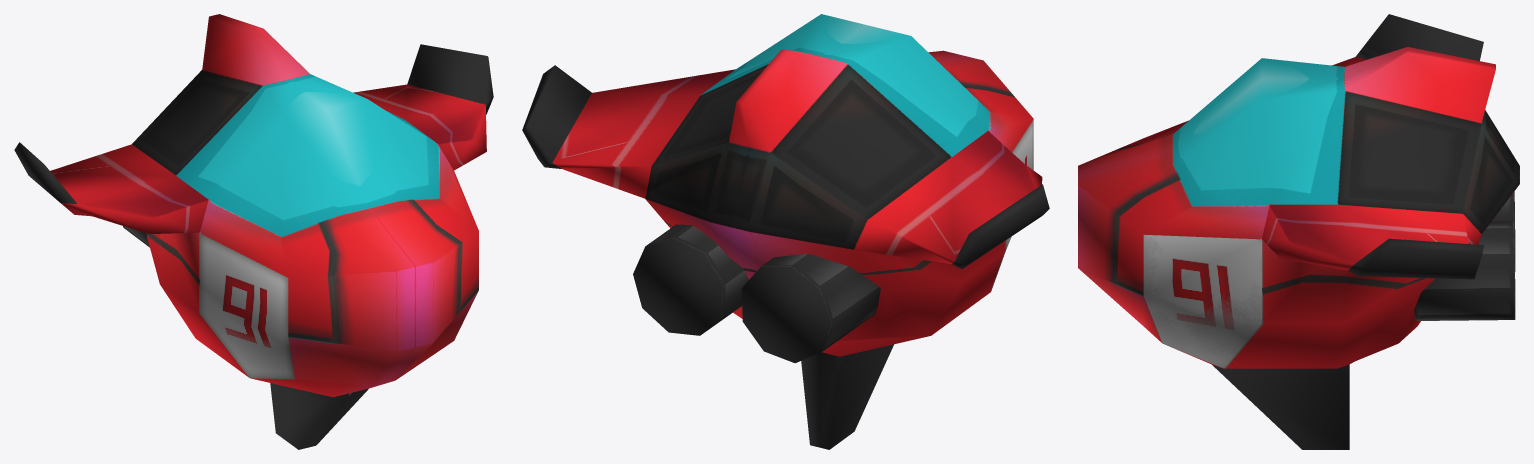
The model's file is space_ship.fbx.
The picture shows the model from 3 angles, left to right: view 1: azimuth 30°, elevation 25°; view 2: azimuth 150°, elevation 25°; view 3: azimuth 270°, elevation 25°; orthographic projection. The views are drawn at different scales.
Visible parts, largest first — view 1: Cube; view 2: Cube; view 3: Cube.
Part boxes in pixels (bbox=[...]): Cube: bbox=[14, 14, 493, 449]; Cube: bbox=[522, 14, 1049, 449]; Cube: bbox=[1078, 14, 1519, 449].
Size of the model in its own units: 573 by 458 by 464.
